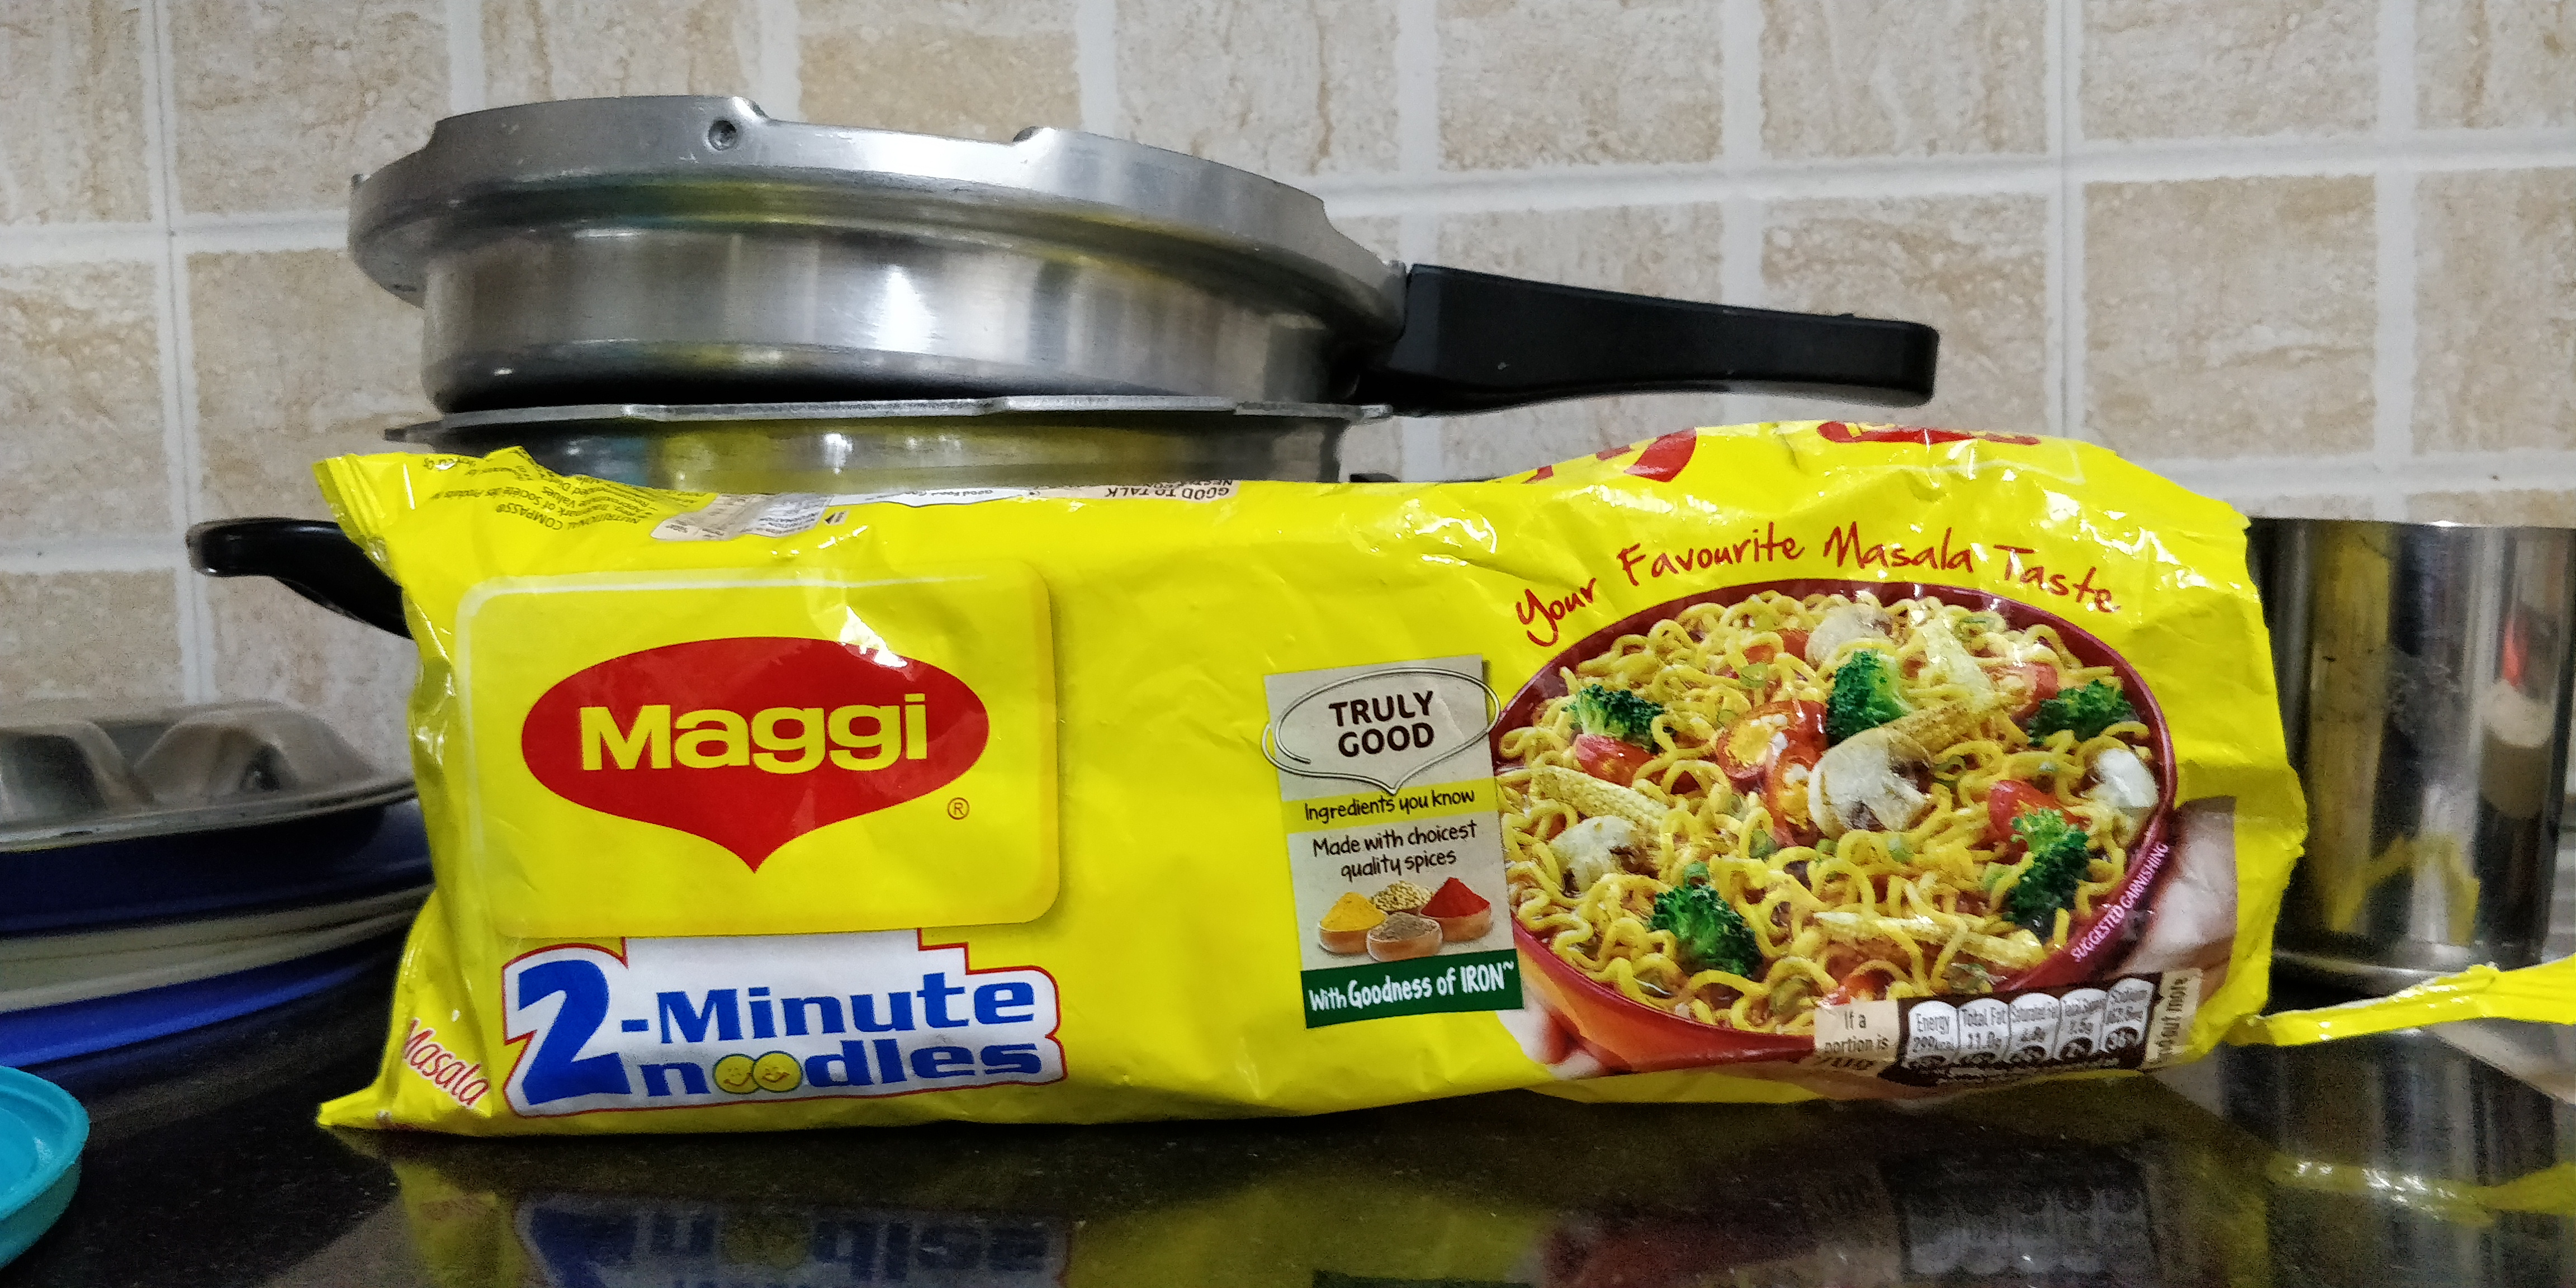maggie: (320, 457, 2301, 1139)
